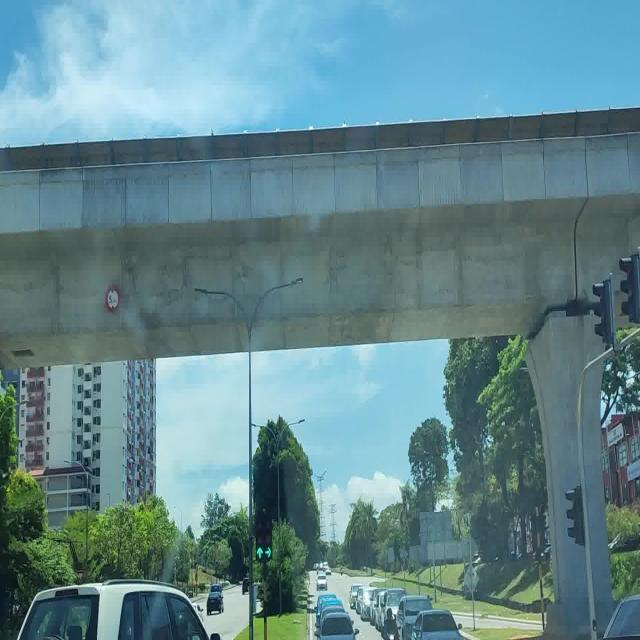green_light: (256, 514, 264, 562), (264, 515, 272, 561)
